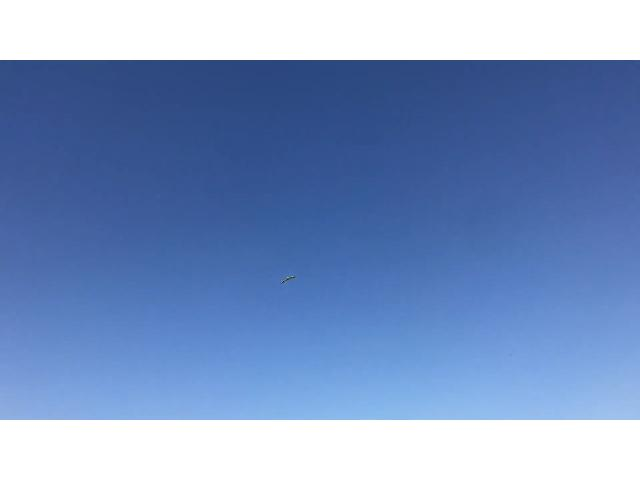Anti-Drone: (274, 271, 300, 293)
